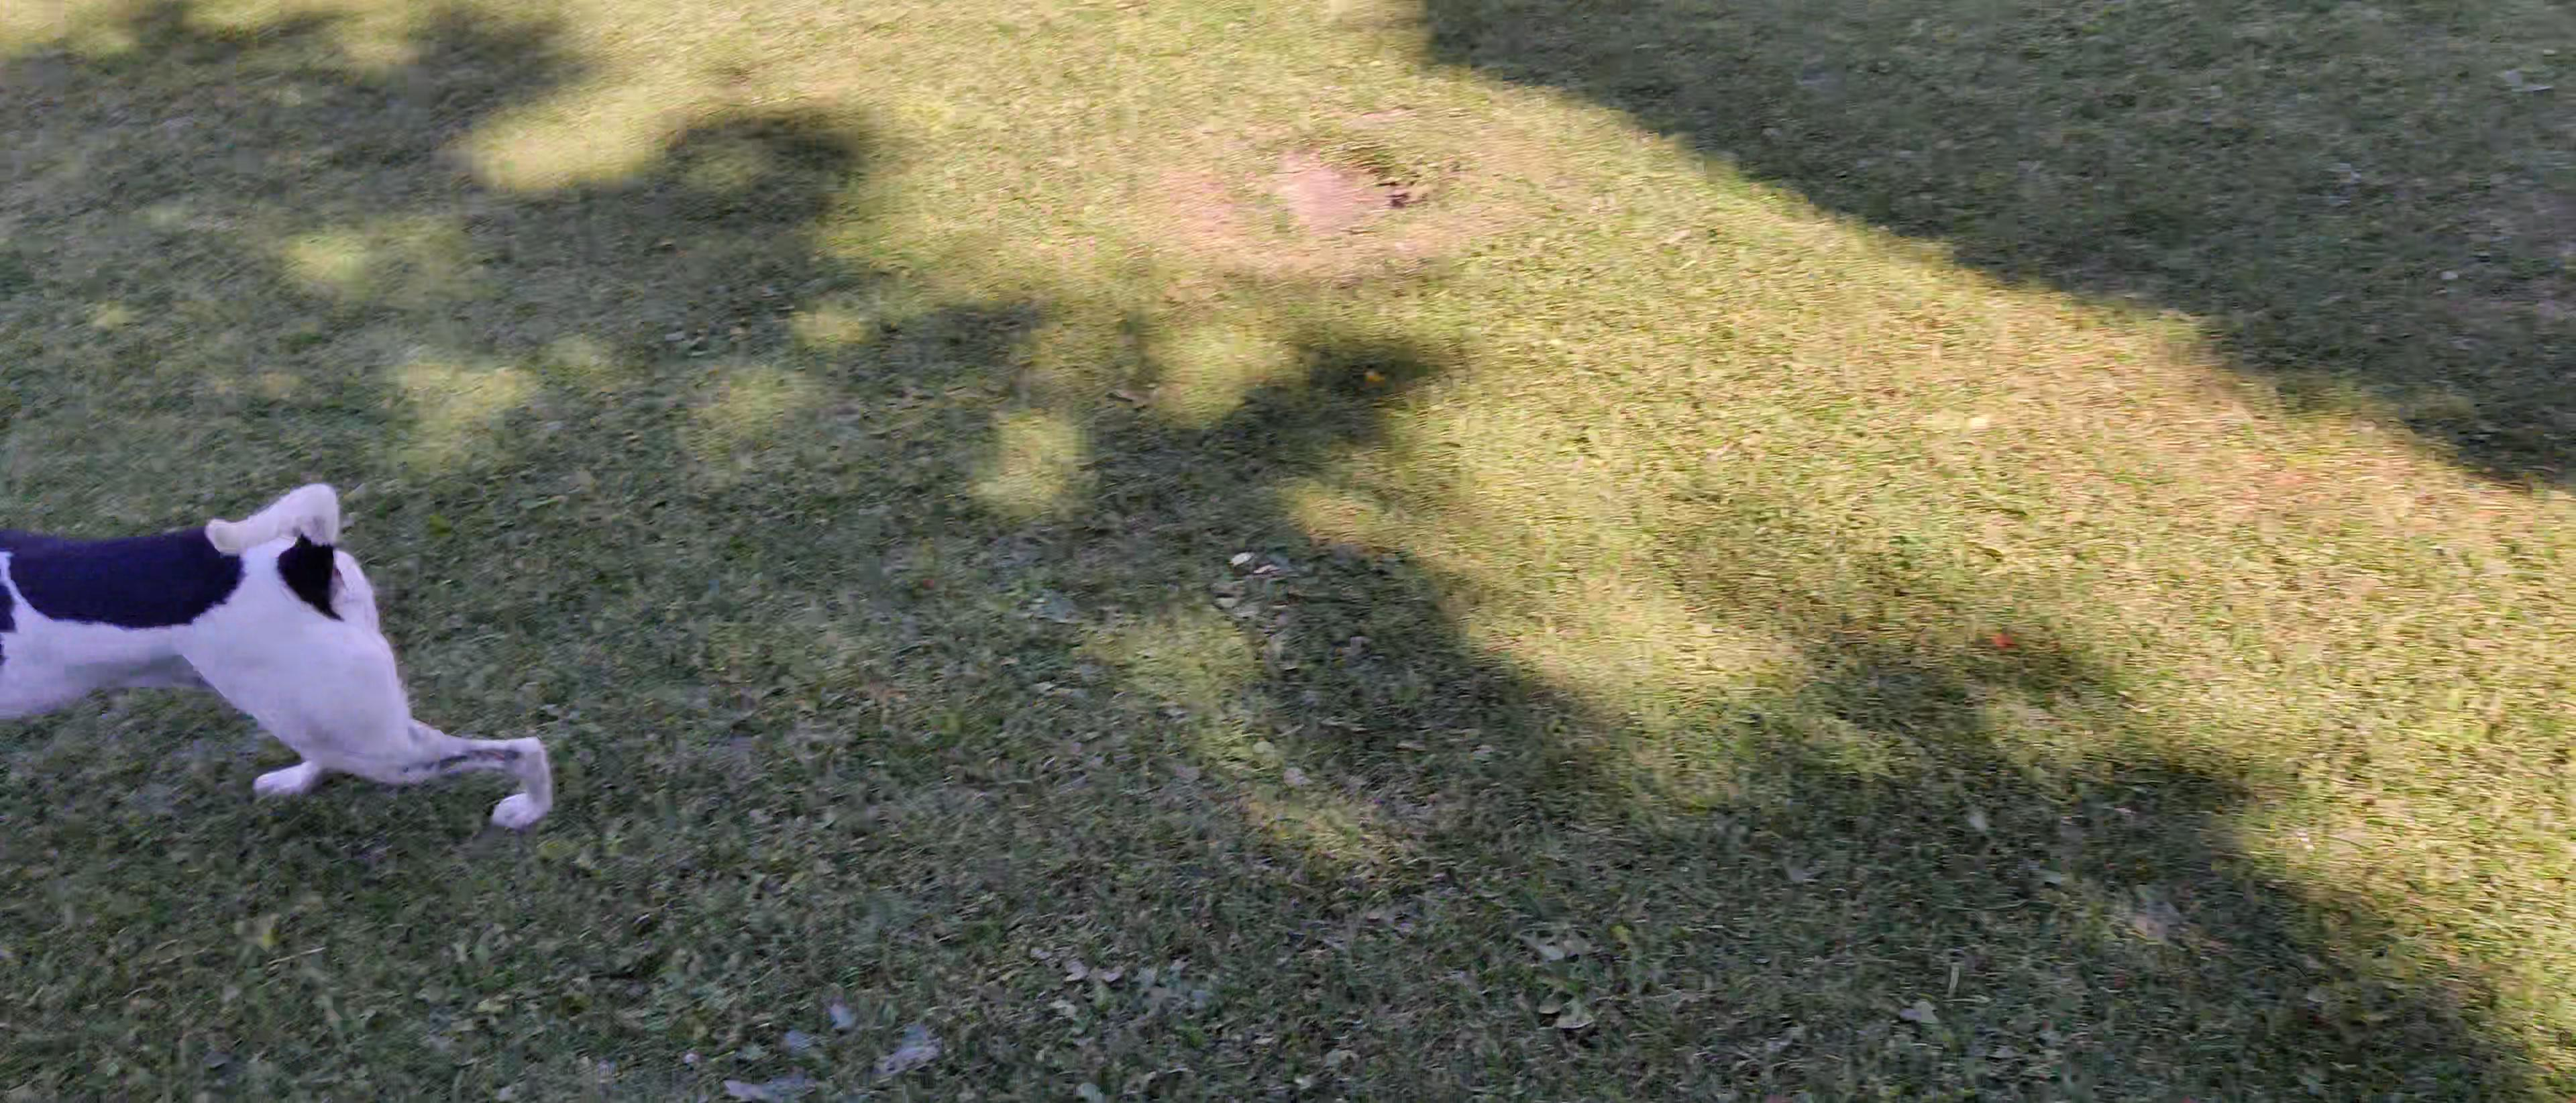Dog: (0, 480, 562, 830)
